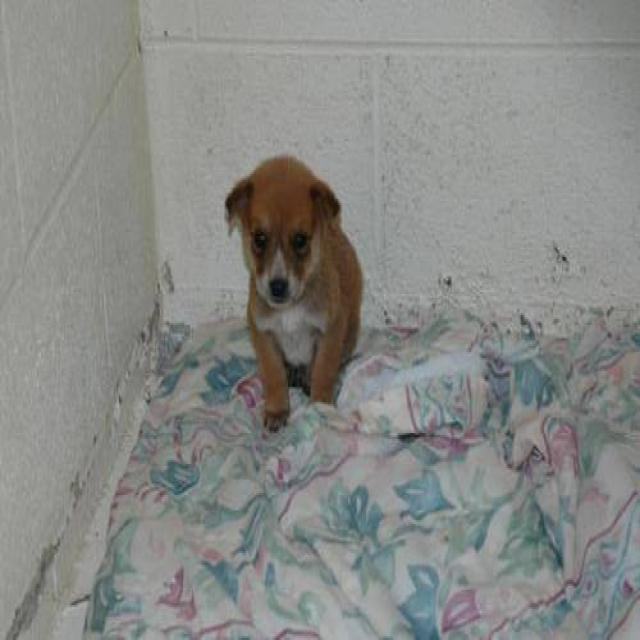dogs: (214, 134, 360, 436)
